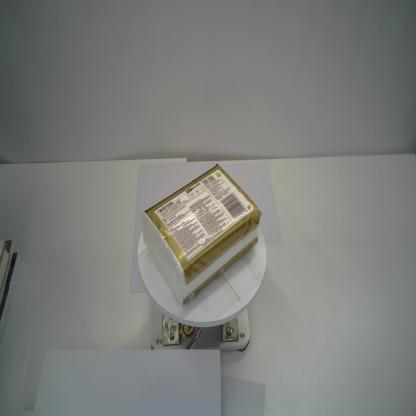Tissue: (142, 163, 262, 307)
